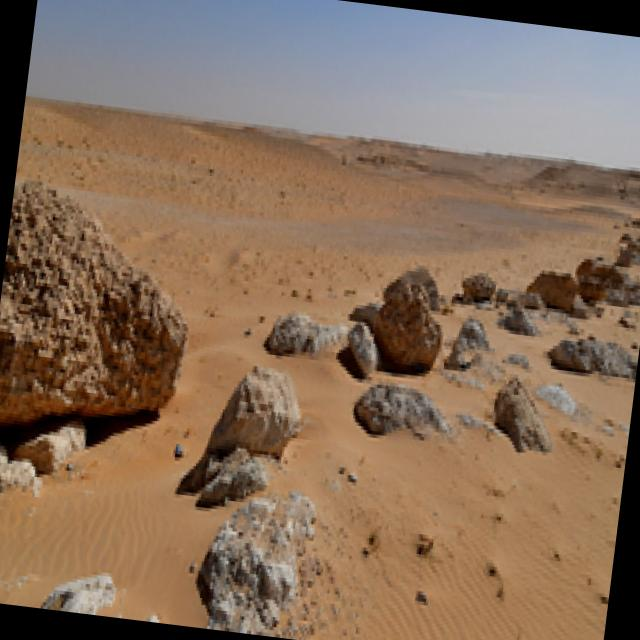red-sand: (0, 99, 640, 640), (573, 305, 640, 357)
stone: (0, 180, 186, 423), (177, 366, 299, 505), (196, 491, 314, 634), (346, 273, 440, 376), (0, 423, 84, 490), (353, 382, 449, 433), (461, 272, 538, 333), (493, 377, 549, 449), (547, 336, 637, 379), (264, 313, 348, 353), (40, 572, 114, 615), (444, 318, 488, 368), (526, 270, 576, 310), (575, 258, 621, 300), (612, 232, 640, 293), (577, 258, 594, 271)
